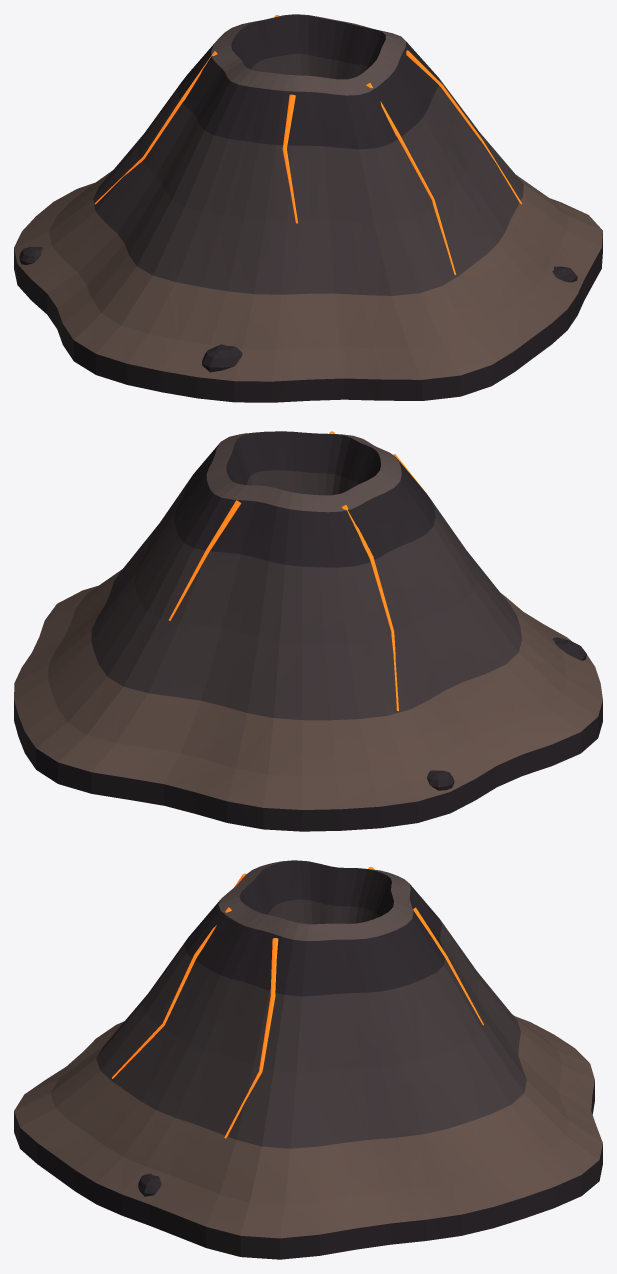
The model's file is Environment_Volcano_Cone16m_001.glb.
The picture shows the model from 3 angles, top to bottom: view 1: azimuth 30°, elevation 25°; view 2: azimuth 150°, elevation 25°; view 3: azimuth 270°, elevation 25°; orthographic projection.
Visible parts, largest first — view 1: VC_VolcanoCone16m_Body; view 2: VC_VolcanoCone16m_Body; view 3: VC_VolcanoCone16m_Body.
Part boxes in pixels (bbox=[...]): VC_VolcanoCone16m_Body: bbox=[14, 14, 602, 402]; VC_VolcanoCone16m_Body: bbox=[14, 431, 602, 831]; VC_VolcanoCone16m_Body: bbox=[14, 860, 602, 1259].
Size of the model in its own units: 16.52 by 7.4 by 16.32.
